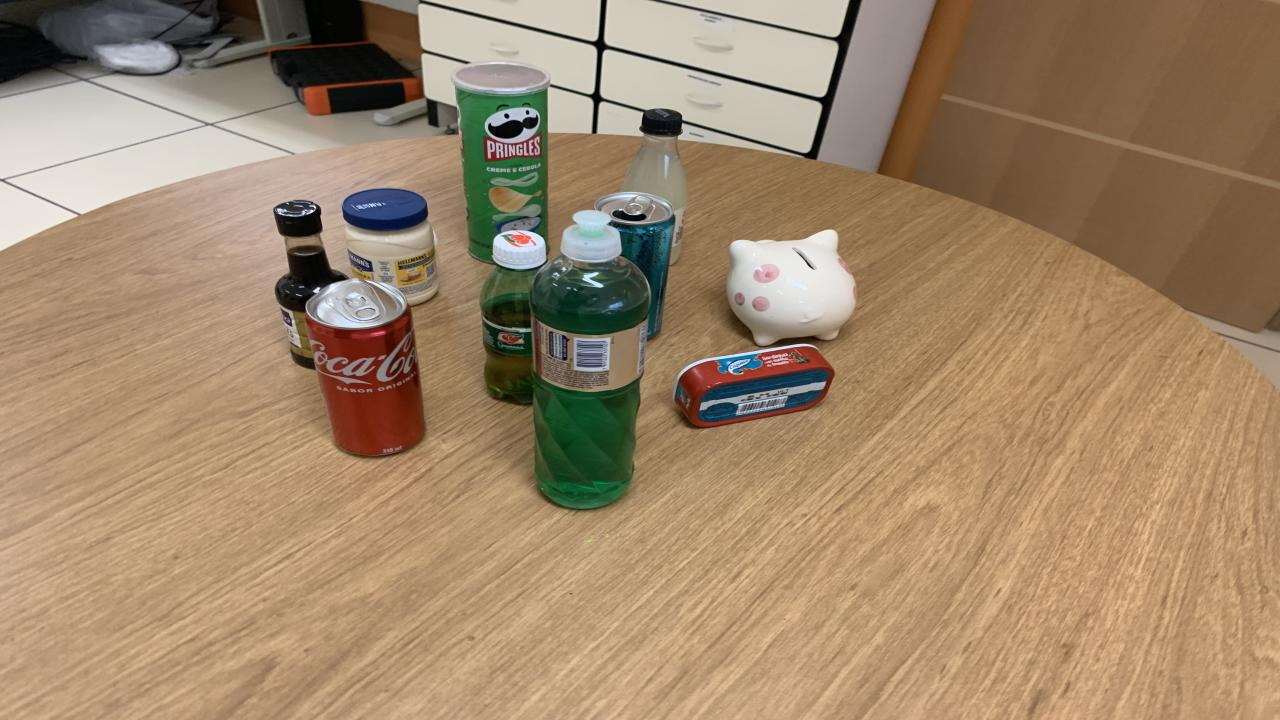Coke-Drinks: (305, 278, 425, 456)
Detergent-Cleanup_Items: (530, 210, 650, 508)
English_Sauce-Pantry_Items: (272, 201, 348, 369)
Guarana-Drinks: (480, 231, 548, 403)
Mayonnaise-Pantry_Items: (342, 188, 438, 306)
Pig_Safe-Miscellaneous: (728, 229, 858, 345)
Pringles-Snacks: (452, 60, 550, 262)
Soda-Drinks: (622, 109, 688, 262)
Tea-Drinks: (595, 191, 675, 336)
Tuna_Can-Pantry_Items: (672, 345, 835, 428)
